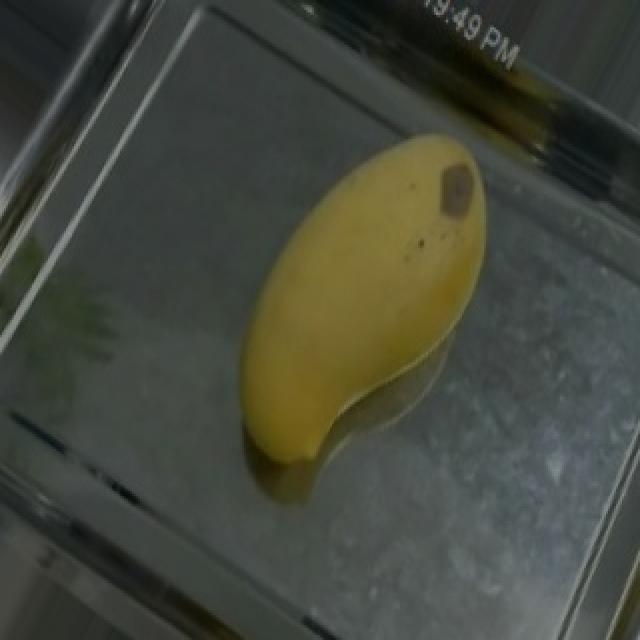fruit: (182, 74, 560, 474)
